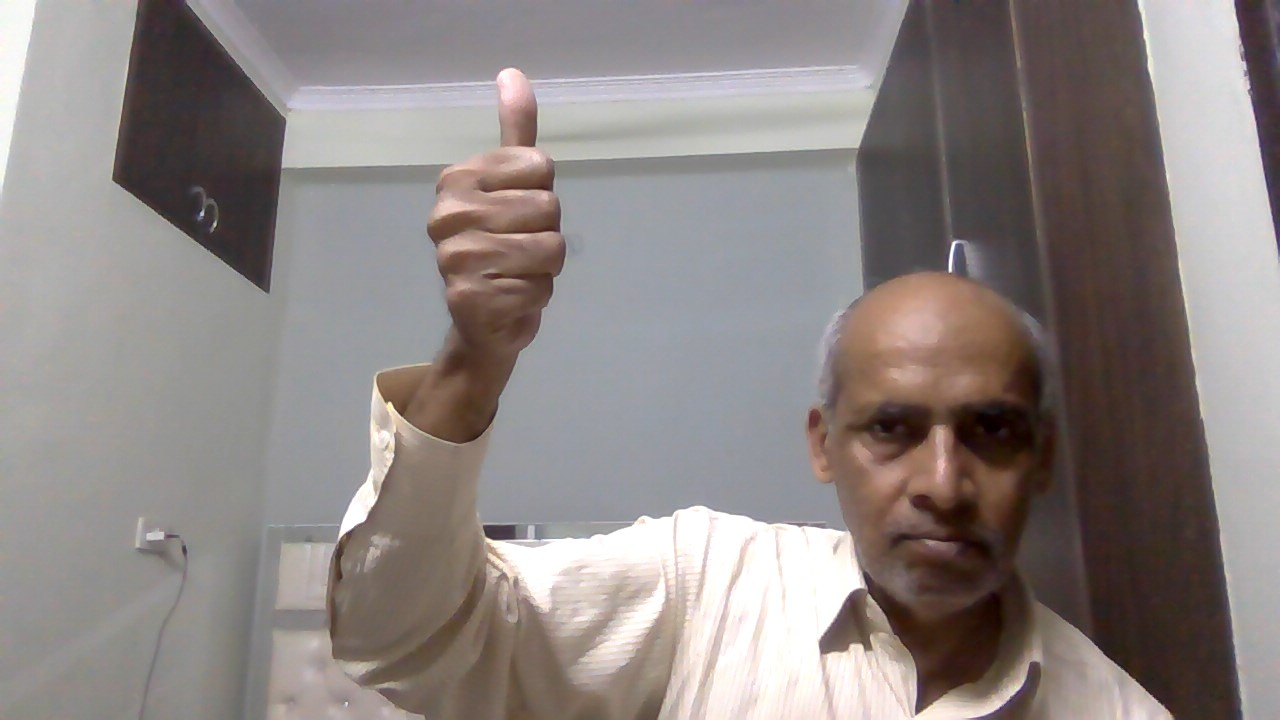Save: (418, 62, 581, 380)
